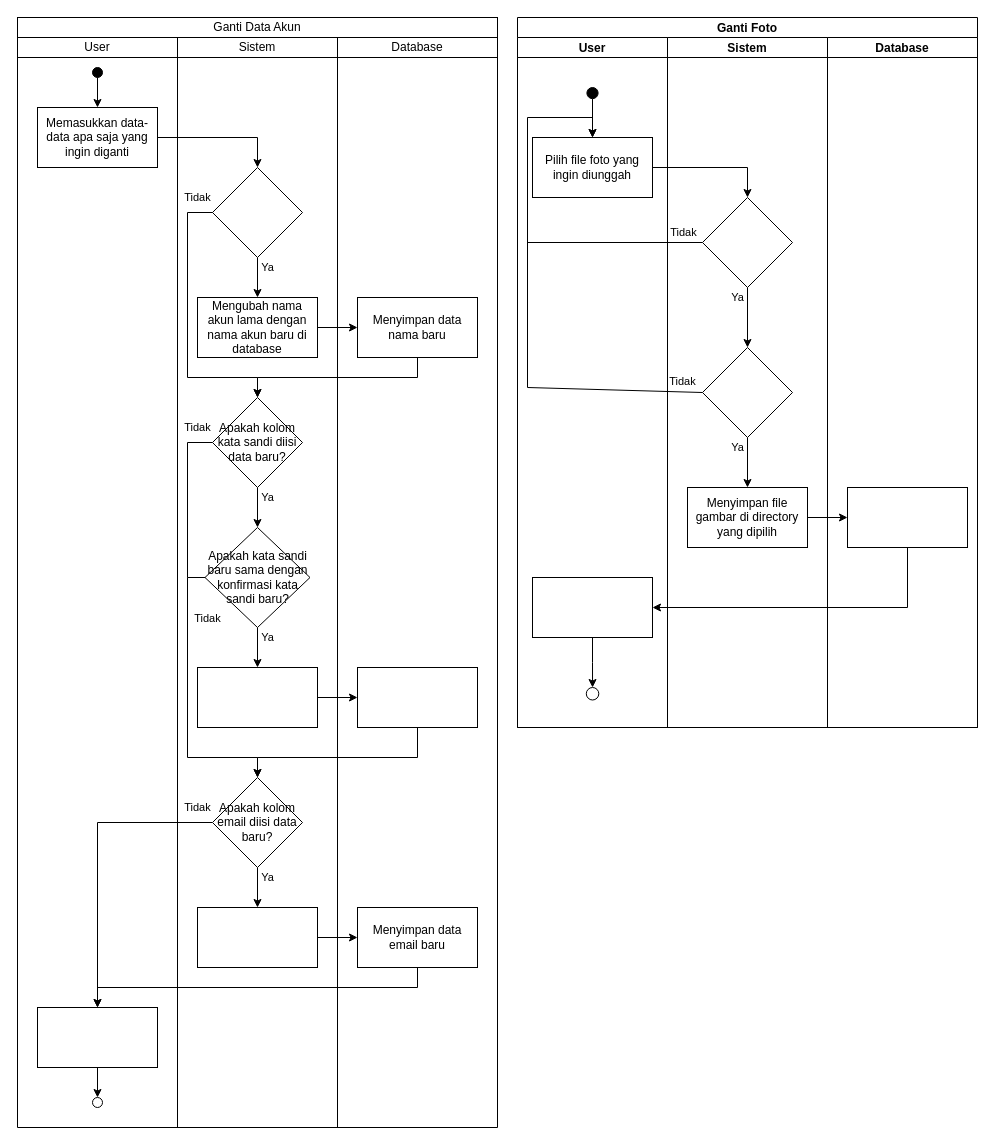
This 996x1146 diagram has some shape labels left out. The shapes that lost their labels are listed below. From the top down, each one's box as (x1, y1, x2, y2) in pixels, then its label:
(212, 166, 302, 258): Apakah kolom nama diisi data baru?
(702, 196, 792, 288): Apakah kolom foto sudah diisi file?
(702, 346, 792, 438): Apakah file berformat JPG, PNG?
(846, 486, 968, 548): Menyimpan nama file bersama akun mana yang menyimpannya
(532, 576, 652, 638): Kembali ke halaman 'Informasi Akun'
(196, 666, 318, 728): Mengubah kata sandi lama dengan kata sandi baru di database
(356, 666, 478, 728): Menyimpan data kata sandi baru
(196, 906, 318, 968): Mengubah email lama dengan email baru di database
(36, 1006, 158, 1068): Masuk ke halaman 'Informasi Akun'
